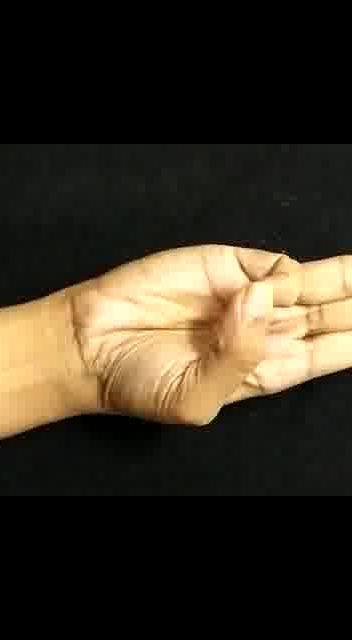trishool: (31, 225, 352, 439)
